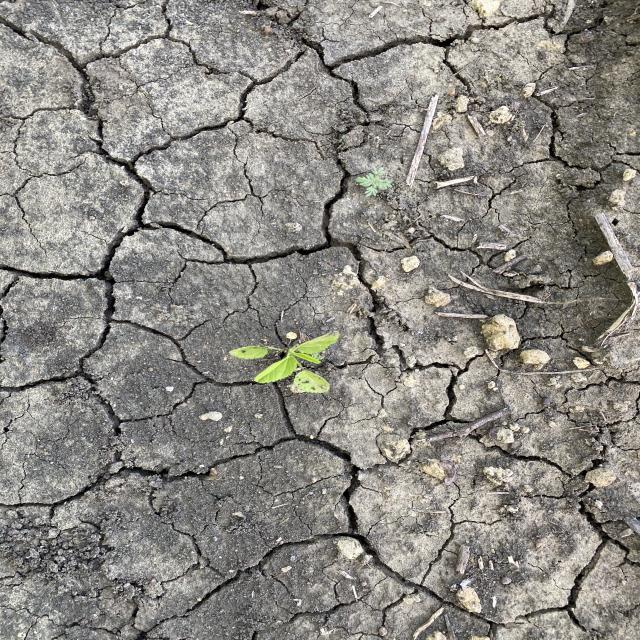PricklySida: (228, 329, 342, 396)
Ragweed: (352, 163, 395, 199)
